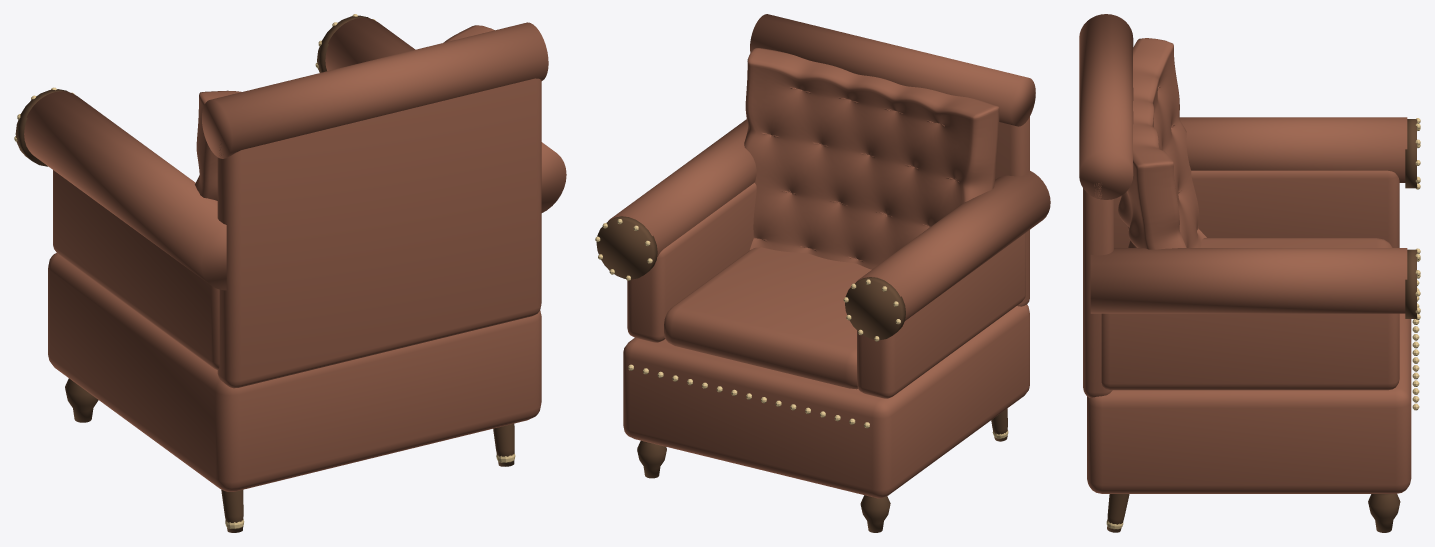
Rendered from chair.glb.
3 views of the same model, side by side, from view 1: azimuth 30°, elevation 25°; view 2: azimuth 150°, elevation 25°; view 3: azimuth 270°, elevation 25° (orthographic). The views are drawn at different scales.
Visible parts, largest first — view 1: backpanel, body, backroll, armroll_L, arm_L, armroll_R, back, leg_FL, leg_BL, armface_L, leg_BR; view 2: back, body, cushion, arm_L, armroll_L, backroll, arm_R, armroll_R, armface_L, armface_R, backpanel, leg_FL (+1 smaller); view 3: body, arm_R, armroll_R, arm_L, armroll_L, back, backroll, backpanel, cushion, leg_FR, armface_L, armface_R (+1 smaller).
Boxes of the visible parts, box(x1,y1,x2,y2) form: backpanel: box(217, 78, 541, 388); body: box(48, 253, 541, 491); backroll: box(202, 22, 548, 158); armroll_L: box(24, 91, 226, 290); arm_L: box(53, 170, 219, 369); armroll_R: box(325, 17, 566, 212); back: box(195, 25, 494, 200); leg_FL: box(65, 378, 98, 422); leg_BL: box(221, 489, 243, 532); armface_L: box(15, 89, 68, 166); leg_BR: box(493, 423, 514, 466); back: box(744, 47, 999, 269); body: box(623, 304, 1029, 498); cushion: box(664, 247, 871, 389); arm_L: box(857, 233, 1025, 398); armroll_L: box(856, 171, 1050, 320); backroll: box(750, 14, 1035, 126); arm_R: box(627, 182, 756, 342); armroll_R: box(608, 119, 756, 257); armface_L: box(845, 277, 905, 340); armface_R: box(596, 216, 657, 279); backpanel: box(995, 117, 1029, 306); leg_FL: box(860, 495, 890, 532); body: box(1087, 313, 1411, 493); arm_R: box(1101, 313, 1399, 390); armroll_R: box(1090, 248, 1407, 313); arm_L: box(1114, 170, 1399, 247); armroll_L: box(1179, 117, 1407, 182); back: box(1118, 38, 1206, 249); backroll: box(1079, 14, 1133, 199); backpanel: box(1083, 183, 1113, 397); cushion: box(1200, 238, 1392, 247); leg_FR: box(1368, 494, 1400, 532); armface_L: box(1405, 119, 1416, 188); armface_R: box(1405, 249, 1416, 318).
Size of the model in its own units: 0.9829 by 1.11 by 0.8846.
